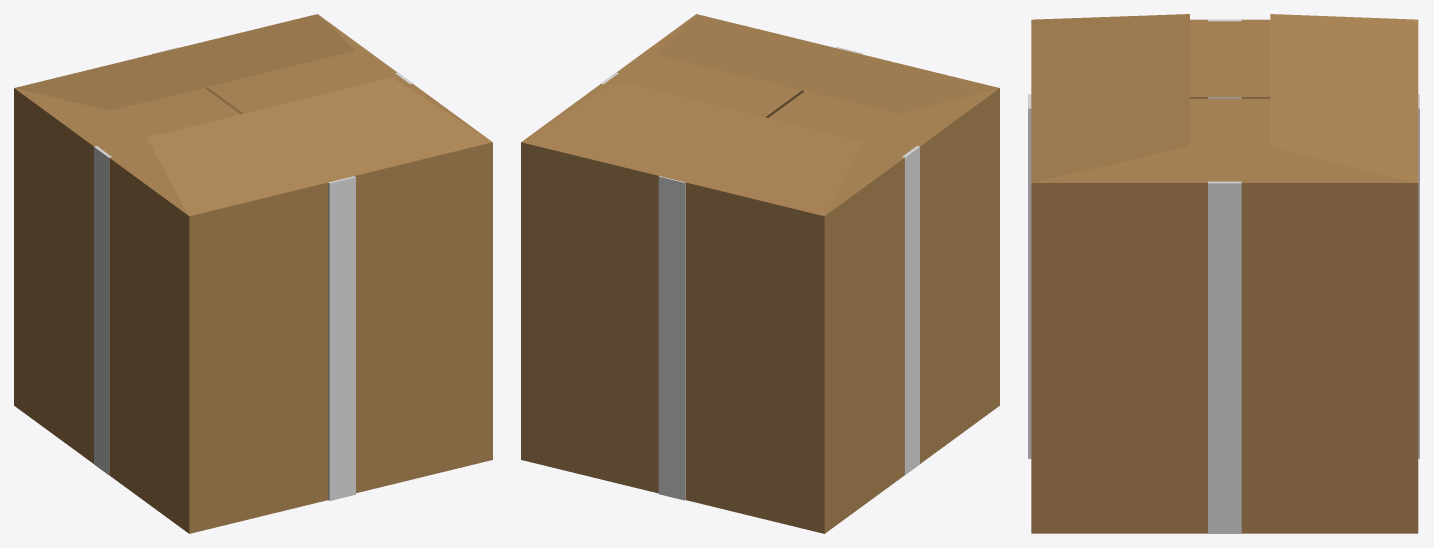
File: cardboardboxclosed.glb
3 views of the same model, side by side, from view 1: azimuth 30°, elevation 25°; view 2: azimuth 150°, elevation 25°; view 3: azimuth 270°, elevation 25° (orthographic). The views are drawn at different scales.
Parts seen in each view (by area): view 1: Cube, Cube.004, Cube.002; view 2: Cube, Cube.003, Cube.002; view 3: Cube, Cube.001, Cube.004, Cube.003.
Boxes of the visible parts, bbox=[...] form: Cube: bbox=[14, 14, 492, 533]; Cube.004: bbox=[328, 176, 355, 500]; Cube.002: bbox=[94, 146, 111, 474]; Cube: bbox=[521, 14, 999, 533]; Cube.003: bbox=[658, 176, 685, 500]; Cube.002: bbox=[902, 146, 919, 474]; Cube: bbox=[1031, 14, 1418, 533]; Cube.001: bbox=[1208, 181, 1241, 533]; Cube.004: bbox=[1028, 94, 1031, 458]; Cube.003: bbox=[1418, 94, 1419, 458].
Bounding box in the file's own units: 2.01 × 2.12 × 2.03.
